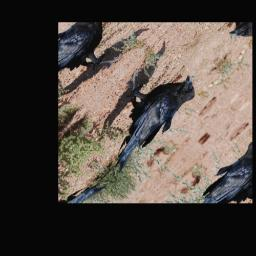Crow: (70, 48, 208, 178)
